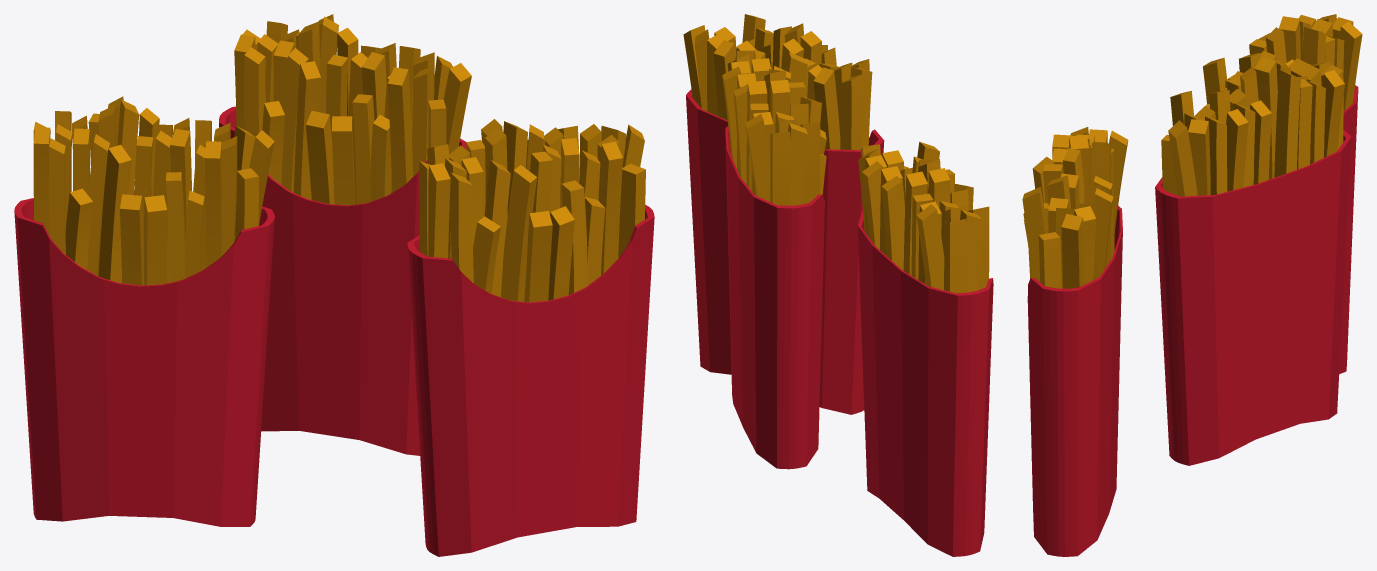
The model's file is fry_group.gltf.
3 views of the same model, side by side, from view 1: azimuth 30°, elevation 25°; view 2: azimuth 150°, elevation 25°; view 3: azimuth 270°, elevation 25° (orthographic). The views are drawn at different scales.
Visible parts, largest first — view 1: French Fries.005, French Fries.007, French Fries.006; view 2: French Fries.005, French Fries.006, French Fries.007; view 3: French Fries.006, French Fries.007, French Fries.005.
Part boxes in pixels (x1,y1,x2,y2): French Fries.005: (14, 96, 274, 526); French Fries.007: (407, 119, 654, 556); French Fries.006: (219, 14, 471, 455); French Fries.005: (857, 141, 993, 556); French Fries.006: (722, 50, 826, 469); French Fries.007: (683, 14, 884, 414); French Fries.006: (1155, 56, 1351, 465); French Fries.007: (1022, 127, 1128, 556); French Fries.005: (1203, 14, 1362, 373).
Size of the model in its own units: 0.2837 by 0.2557 by 0.1912.
